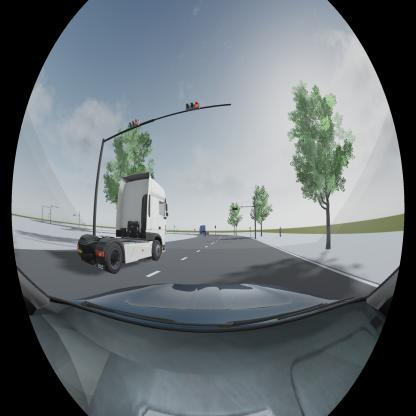Green Light: (232, 207, 240, 213)
Red Light: (185, 100, 201, 111), (128, 119, 140, 128)
